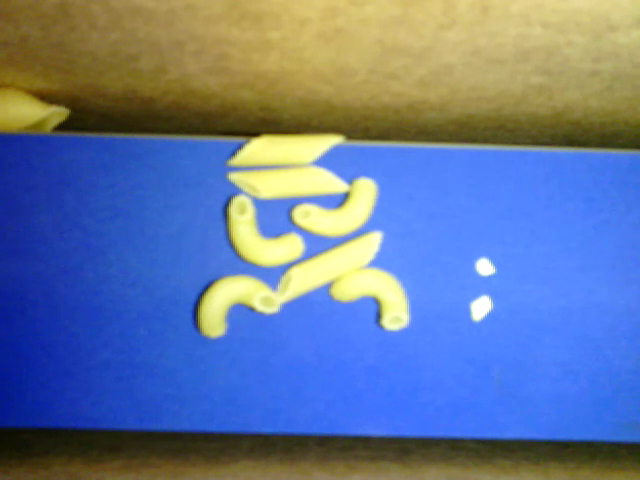elbow: (222, 190, 308, 269), (195, 272, 286, 339), (292, 173, 387, 236), (325, 267, 412, 329)
penne: (273, 229, 389, 306), (227, 127, 346, 170), (222, 168, 354, 199)
shell: (2, 88, 77, 135)
